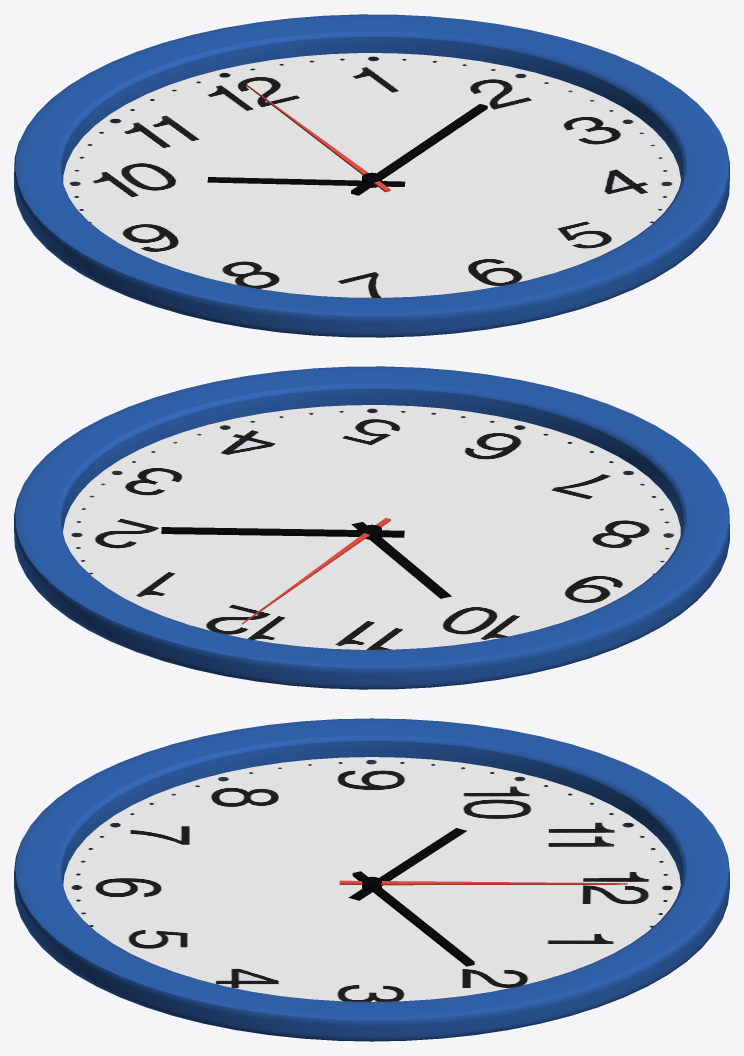
Rendered from clock.gltf.
3 views of the same model, one above another, from view 1: azimuth 30°, elevation 25°; view 2: azimuth 150°, elevation 25°; view 3: azimuth 270°, elevation 25° (orthographic).
Parts seen in each view (by area): view 1: block, minute, heure, seconde; view 2: block, minute, heure, seconde; view 3: block, minute, heure, seconde.
Boxes of the visible parts, bbox=[...] form: block: bbox=[14, 14, 729, 337]; minute: bbox=[351, 104, 487, 195]; heure: bbox=[207, 177, 405, 186]; seconde: bbox=[246, 84, 390, 192]; block: bbox=[14, 366, 729, 689]; minute: bbox=[161, 527, 404, 537]; heure: bbox=[351, 522, 451, 598]; seconde: bbox=[242, 518, 390, 624]; block: bbox=[14, 718, 729, 1041]; minute: bbox=[352, 871, 474, 966]; heure: bbox=[348, 828, 466, 900]; seconde: bbox=[339, 880, 627, 885].
Size of the model in its own units: 1.99 by 0.0946 by 1.99.
4 materials, 1 textured.
